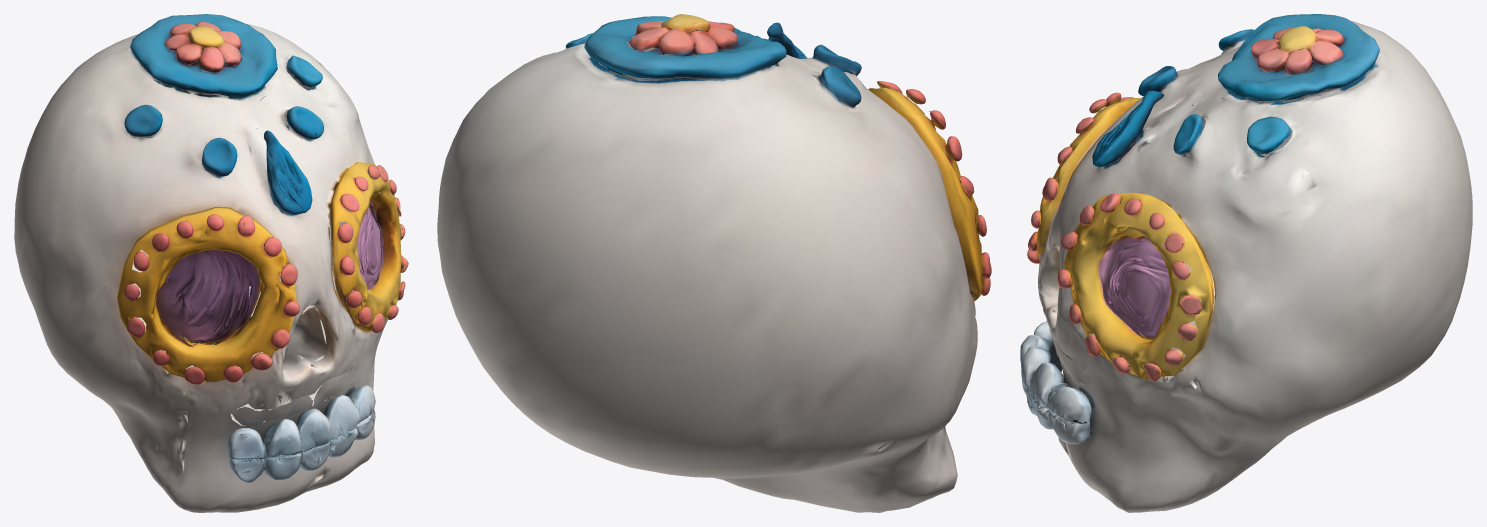
Rendered from Stack 5B - Candy Skul.glb.
The picture shows the model from 3 angles, left to right: view 1: azimuth 30°, elevation 25°; view 2: azimuth 150°, elevation 25°; view 3: azimuth 270°, elevation 25°; orthographic projection. The views are drawn at different scales.
Visible parts, largest first — view 1: Stack 5B - Candy Skul · mesh; view 2: Stack 5B - Candy Skul · mesh; view 3: Stack 5B - Candy Skul · mesh.
Boxes of the visible parts, box(x1,y1,x2,y2) form: Stack 5B - Candy Skul · mesh: box(14, 14, 408, 512); Stack 5B - Candy Skul · mesh: box(437, 14, 991, 512); Stack 5B - Candy Skul · mesh: box(1020, 14, 1472, 512).
Bounding box in the file's own units: 0.8853 × 1 × 0.9224.
Materials: 1 (1 with a texture image).
